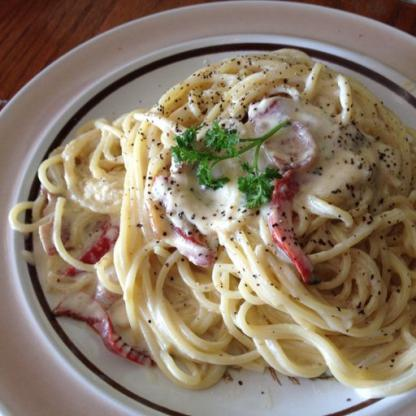pasta: (28, 46, 415, 396)
